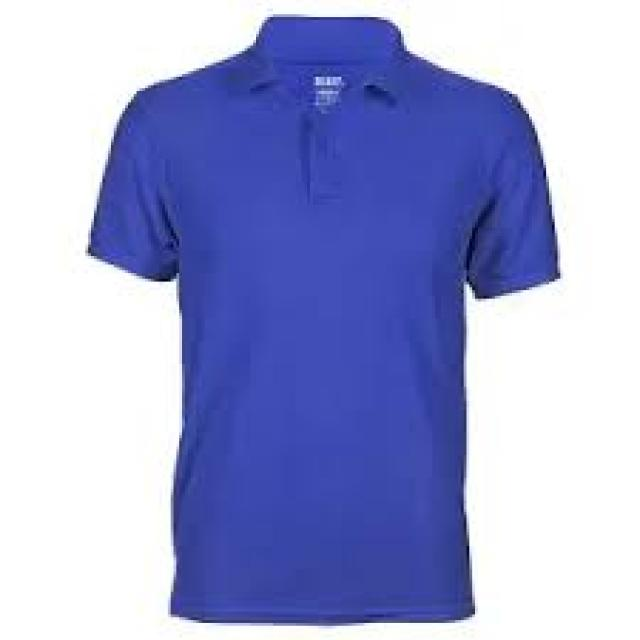shirt: (90, 19, 559, 625)
